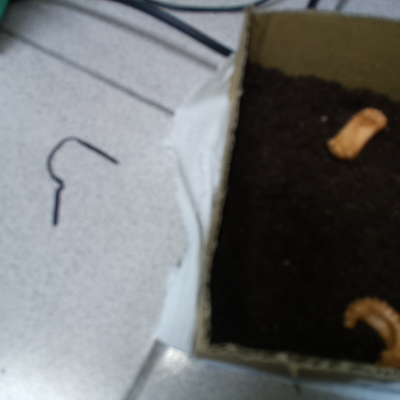eggs: (339, 287, 400, 369), (323, 100, 389, 164)
